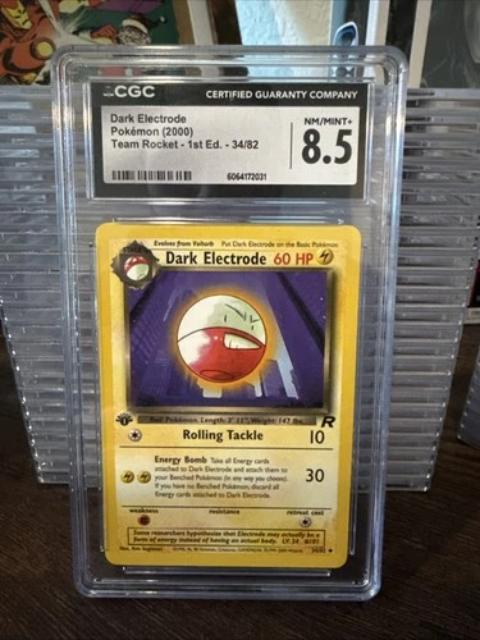Card: (91, 217, 364, 573)
Name: (162, 249, 273, 270)
